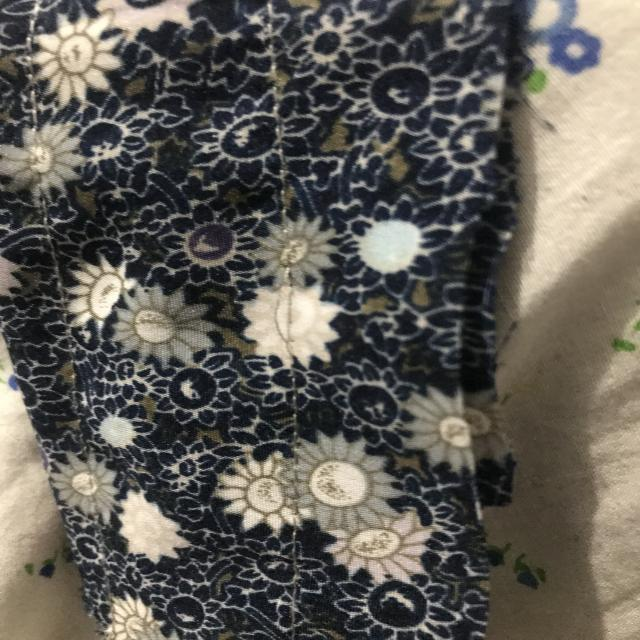skip: (253, 262, 311, 361)
